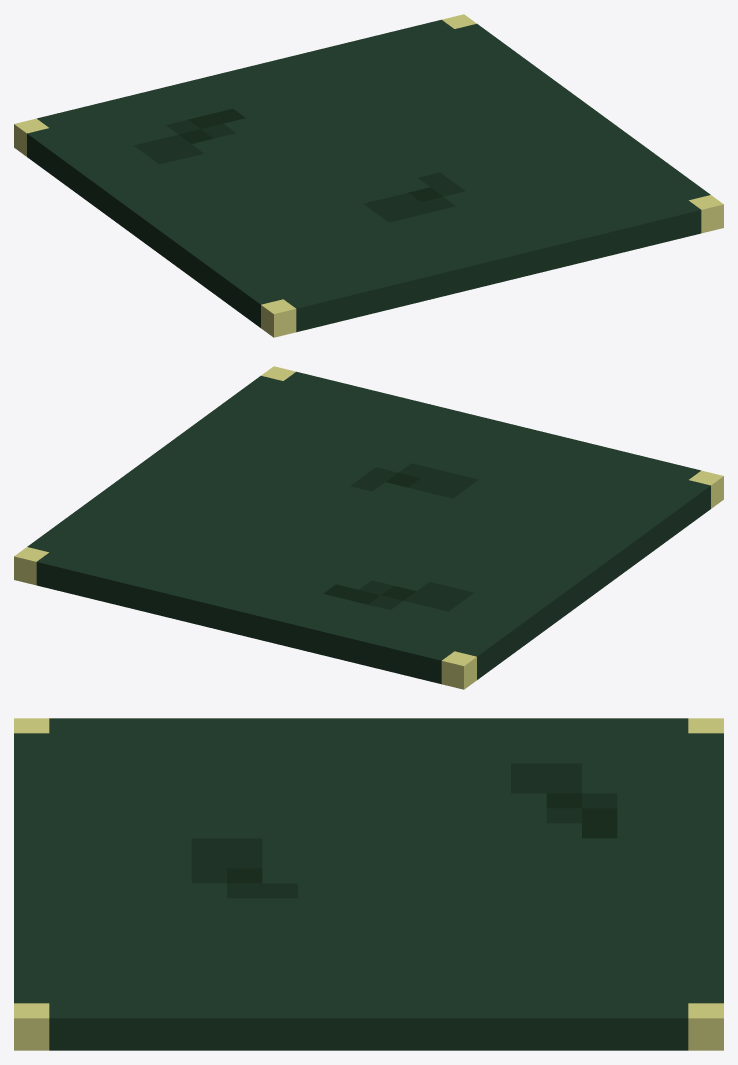
Rendered from GreenRug_CrossSection_01.obj.
3 renders of one model, top to bottom at view 1: azimuth 30°, elevation 25°; view 2: azimuth 150°, elevation 25°; view 3: azimuth 270°, elevation 25°, orthographic. The views are drawn at different scales.
Parts seen in each view (by area): view 1: GreenRug_CrossSection_01.001; view 2: GreenRug_CrossSection_01.001; view 3: GreenRug_CrossSection_01.001.
Part boxes in pixels (<box>): GreenRug_CrossSection_01.001: <box>14,14,723,337</box>; GreenRug_CrossSection_01.001: <box>14,366,723,689</box>; GreenRug_CrossSection_01.001: <box>14,718,723,1050</box>.
Size of the model in its own units: 2 by 0.1 by 2.
